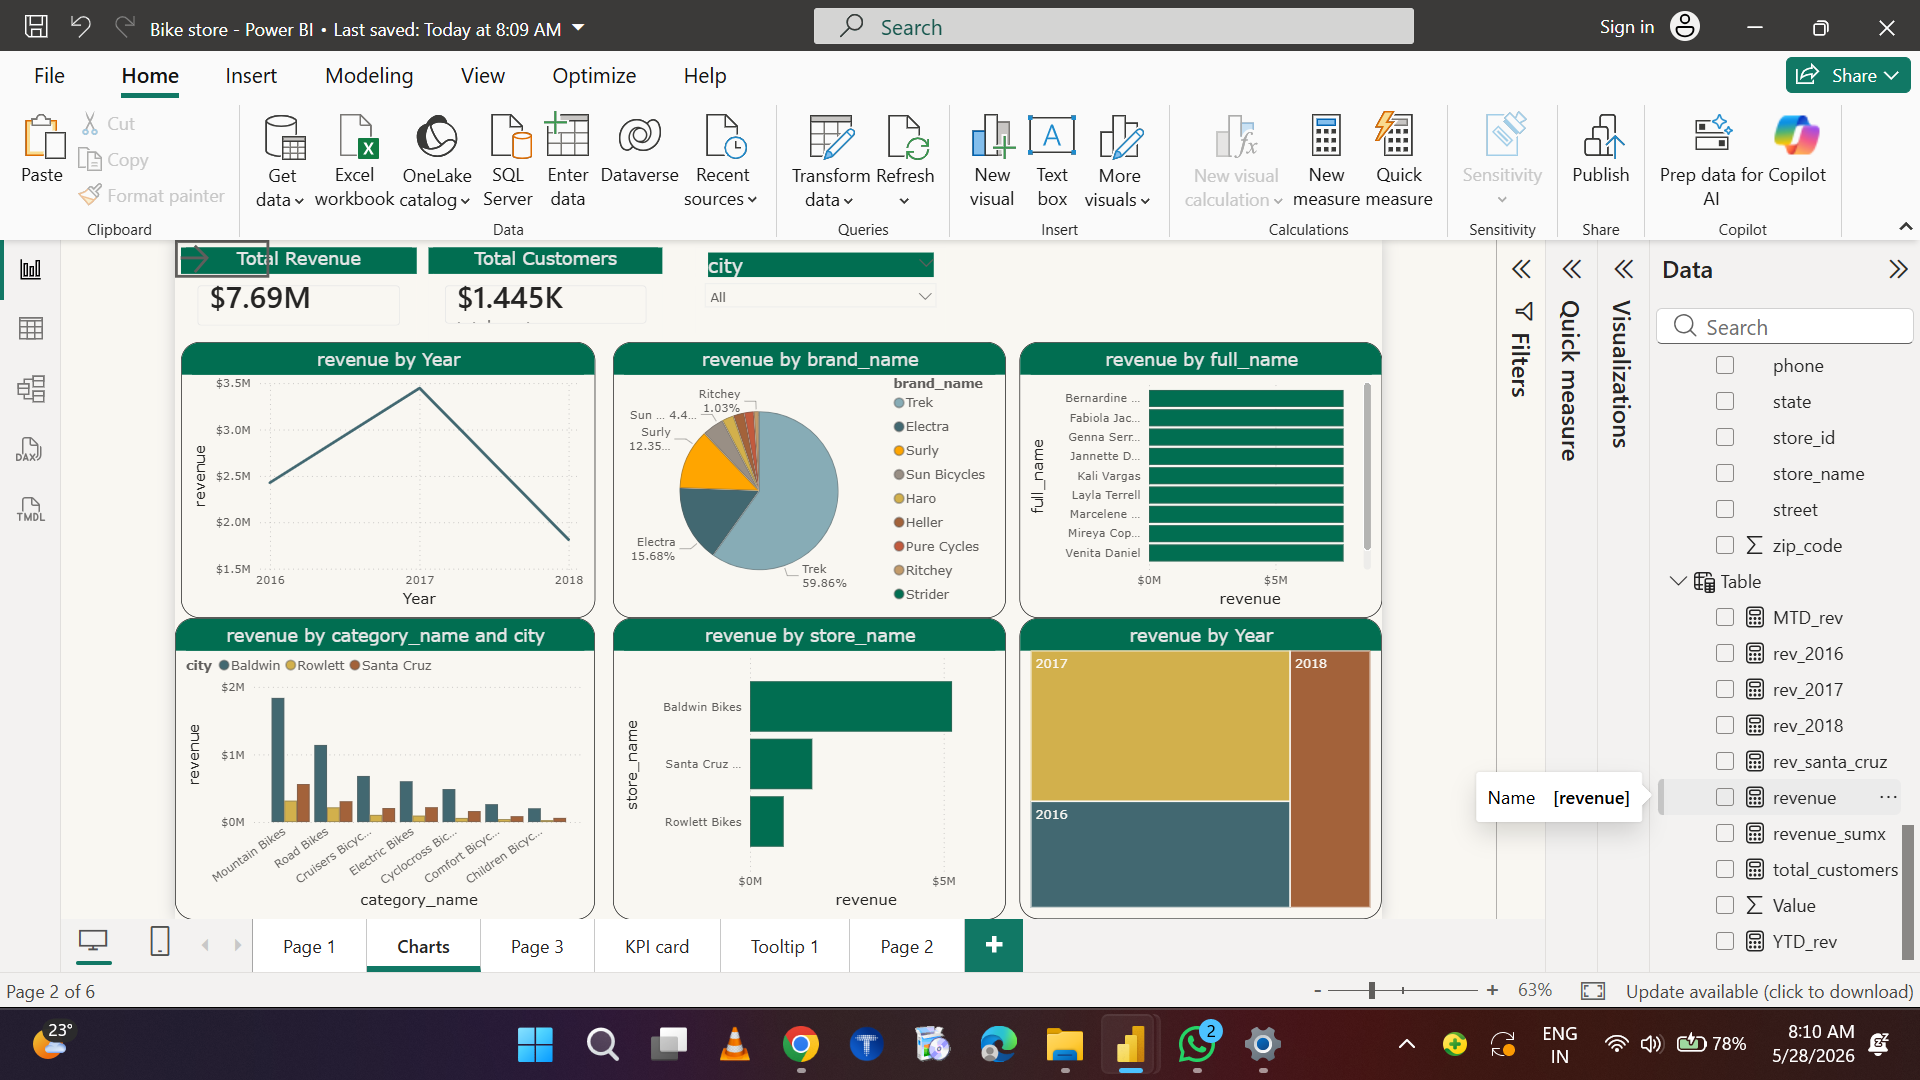

The dashboard page shown, as its layout file describes it:
{"tool":"powerbi","page":{"name":"Charts","canvas":[1280,720],"ordinal":1},"visuals":[{"type":"barChart","fields":{"Category":["Stores.store_name"],"Y":["Table.revenue"]},"box":[464.5,400.8,416.7,319.7],"z":0},{"type":"clusteredColumnChart","fields":{"Category":["Categories.category_name"],"Y":["Table.revenue"],"Series":["Stores.city"]},"box":[0,400.8,445.4,319.7],"z":1000},{"type":"lineChart","fields":{"Y":["Table.revenue"],"Category":["Orders.order_date.Variation.Date Hierarchy.Year","Orders.order_date.Variation.Date Hierarchy.Quarter","Orders.order_date.Variation.Date Hierarchy.Month","Orders.order_date.Variation.Date Hierarchy.Day"]},"box":[6.4,108.2,439,292.7],"z":2000},{"type":"pieChart","fields":{"Category":["Brands.brand_name"],"Y":["Table.revenue"]},"box":[464.5,108.2,416.7,292.7],"z":3000},{"type":"cardVisual","title":"Total Revenue","fields":{"Data":["Table.revenue"]},"box":[6.4,8,249.7,100.2],"z":4000},{"type":"slicer","fields":{"Values":["Stores.city"]},"box":[551.9,8,265.6,90.7],"z":5000},{"type":"cardVisual","title":"Total Customers","fields":{"Data":["Table.total_customers"]},"box":[268.8,8,248.1,98.6],"z":6000},{"type":"actionButton","box":[0,0,100,40],"z":7000},{"type":"actionButton","box":[0,0,100,40],"z":8000},{"type":"barChart","fields":{"Category":["Staffs.full_name"],"Y":["Table.revenue"]},"box":[895.5,108.2,384.9,292.7],"z":9000},{"type":"treemap","fields":{"Group":["Orders.Year"],"Values":["Table.revenue"]},"box":[896,401,384,319],"z":10000}]}

Visuals, with their boxes on the page's 1280x720 design canvas (x1, y1, x2, y2). These are canvas units, not pixel positions in the 1920x1080 screenshot, which may show the page scaled, cropped or inside an application window:
barChart - Stores.store_name x Table.revenue: 464,401,881,720
clusteredColumnChart - Categories.category_name x Table.revenue: 0,401,445,720
lineChart - Table.revenue x Orders.order_date.Variation.Date Hierarchy.Year: 6,108,445,401
pieChart - Brands.brand_name x Table.revenue: 464,108,881,401
"Total Revenue" cardVisual: 6,8,256,108
slicer - Stores.city: 552,8,818,99
"Total Customers" cardVisual: 269,8,517,107
actionButton: 0,0,100,40
actionButton: 0,0,100,40
barChart - Staffs.full_name x Table.revenue: 896,108,1280,401
treemap - Orders.Year x Table.revenue: 896,401,1280,720
